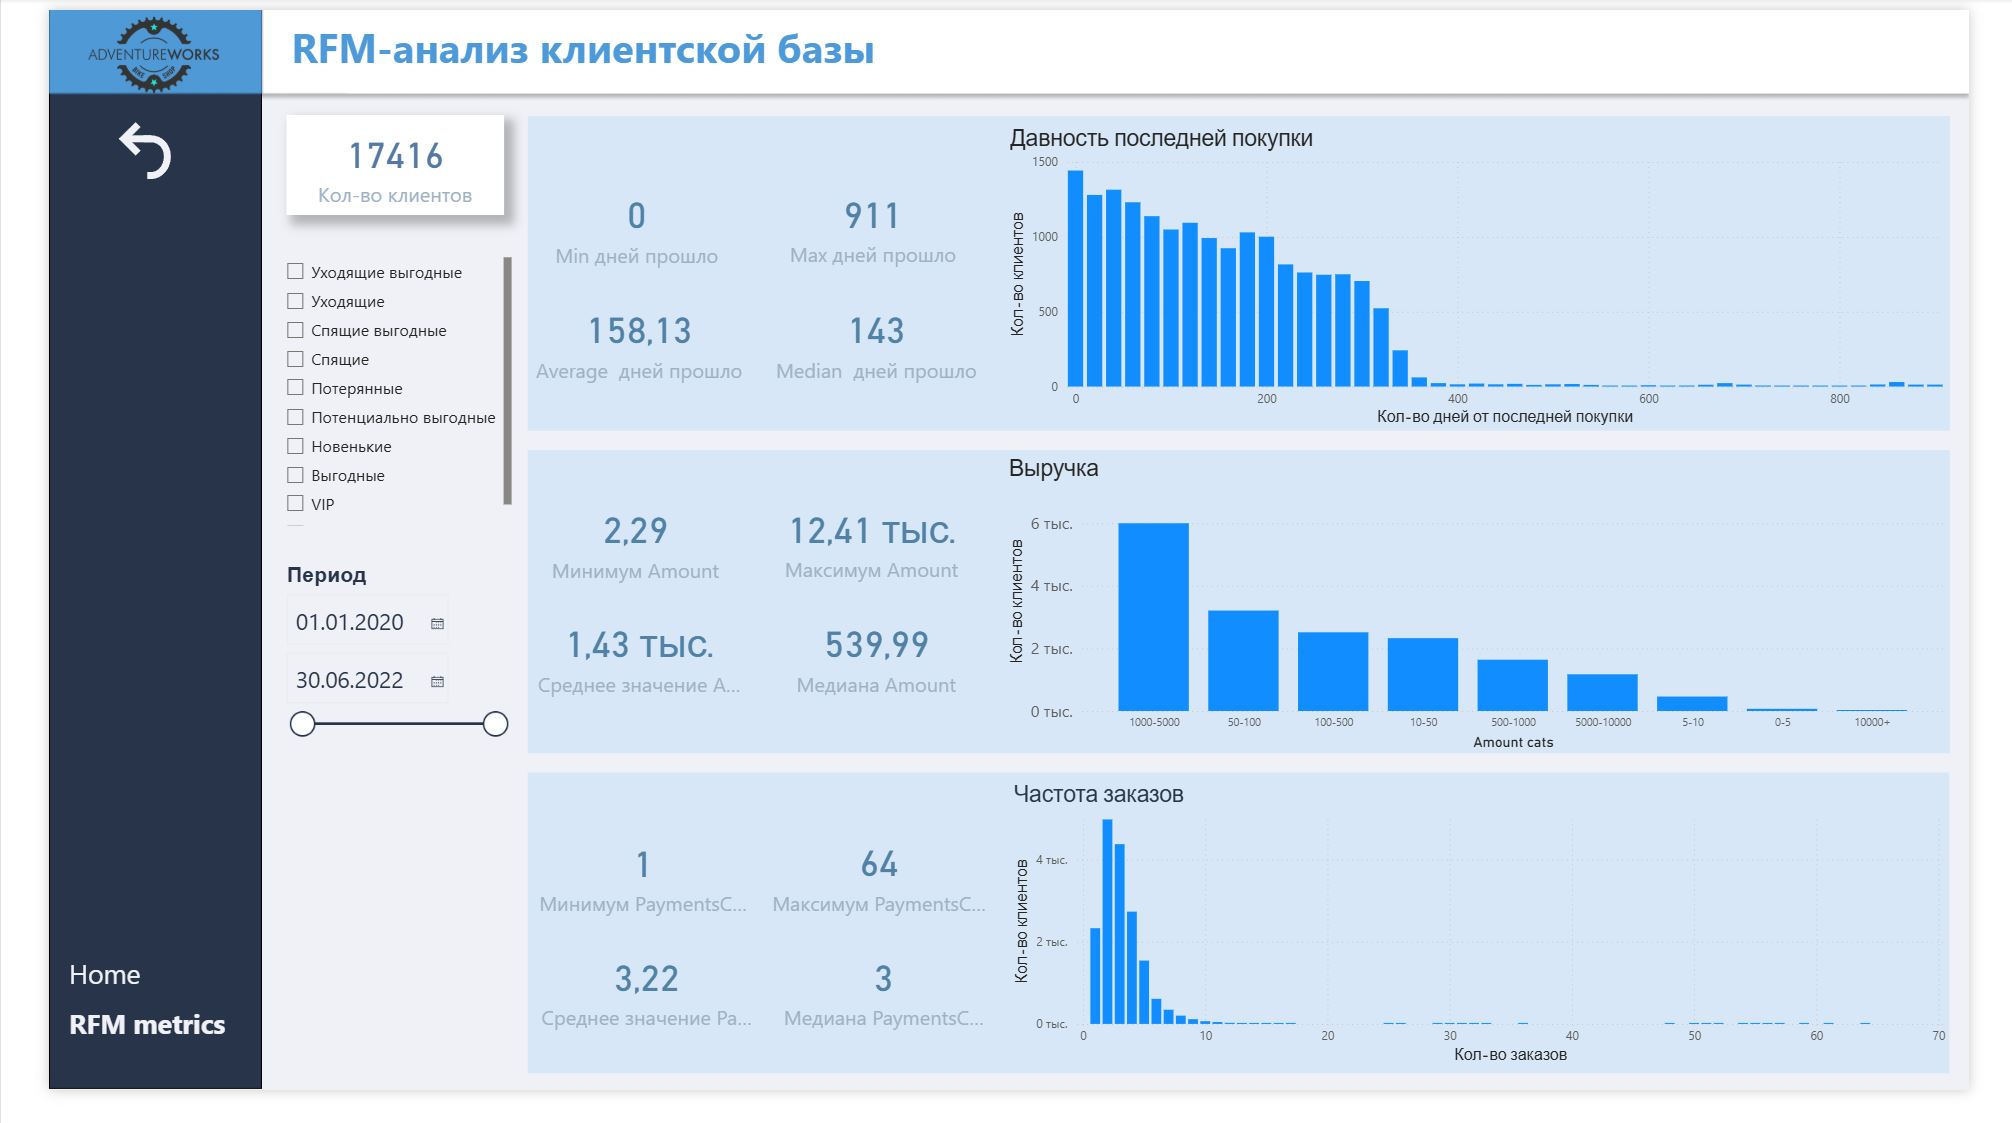

Layout of this report page (visuals, bound fields, positions):
{"tool":"powerbi","page":{"name":"RFM metrics","canvas":[1920,1080],"ordinal":1},"visuals":[{"type":"shape","box":[478.9,106.7,1422.2,314.4],"z":0},{"type":"slicer","fields":{"Values":["RFM cats.Определение группы"]},"box":[225.6,242.2,242.2,277.8],"z":1000},{"type":"textbox","title":"RFM-анализ клиентской базы","box":[238,10,918,56],"z":2000},{"type":"image","title":"Company Logo","box":[16.7,0,178.3,90],"z":3000},{"type":"actionButton","box":[62,106,88,68],"z":4000},{"type":"card","fields":{"Values":["Min(CustomerOrderingParams.DaysPassed)"]},"box":[475.7,166.5,223.3,98.9],"z":5000},{"type":"shape","box":[479.2,763.1,1421.5,300.8],"z":5500},{"type":"card","fields":{"Values":["Max(CustomerOrderingParams.DaysPassed)"]},"box":[711.3,166.5,225.6,97.8],"z":6000},{"type":"card","fields":{"Values":["Median(CustomerOrderingParams.DaysPassed)"]},"box":[717.9,282.1,220,96.7],"z":7000},{"type":"shape","box":[478.9,440,1422.2,303.3],"z":8000},{"type":"columnChart","title":"Выручка","fields":{"Y":["_Measures.Кол-во клиентов"],"Category":["CustomerOrderingParams.Amount cats"]},"box":[955.6,445.6,945.6,300],"z":9000},{"type":"columnChart","title":"Частота заказов","fields":{"Category":["CustomerOrderingParams.PaymentsCount"],"Y":["_Measures.Кол-во клиентов"]},"box":[960,771.1,942.2,286.7],"z":10000},{"type":"card","fields":{"Values":["_Measures.Кол-во клиентов"]},"box":[237.8,105.6,217.8,100],"z":11000},{"type":"card","fields":{"Values":["Min(CustomerOrderingParams.Amount)"]},"box":[475,481,223.3,98.9],"z":12000},{"type":"card","fields":{"Values":["Max(CustomerOrderingParams.Amount)"]},"box":[710.6,481,225.6,97.8],"z":13000},{"type":"card","fields":{"Values":["Median(CustomerOrderingParams.Amount)"]},"box":[717.2,596.6,220,96.7],"z":14000},{"type":"card","fields":{"Values":["Avg(CustomerOrderingParams.Amount)"]},"box":[478.3,596.6,223.3,96.7],"z":15000},{"type":"columnChart","title":"Давность последней покупки","fields":{"Y":["_Measures.Кол-во клиентов"],"Category":["CustomerOrderingParams.DaysPassed (bins)"]},"box":[956.7,115.6,945.6,305.6],"z":16000},{"type":"card","fields":{"Values":["Avg(CustomerOrderingParams.DaysPassed)"]},"box":[479,282.1,223.3,96.7],"z":17000},{"type":"slicer","fields":{"Values":["Calendar.Date"]},"box":[225,547.5,242.5,195],"z":18000},{"type":"pageNavigator","box":[20,942.2,178.9,90],"z":20000},{"type":"card","fields":{"Values":["Min(CustomerOrderingParams.PaymentsCount)"]},"box":[482.5,814.9,223.3,98.9],"z":21000},{"type":"card","fields":{"Values":["Max(CustomerOrderingParams.PaymentsCount)"]},"box":[718.1,814.9,225.6,97.8],"z":22000},{"type":"card","fields":{"Values":["Median(CustomerOrderingParams.PaymentsCount)"]},"box":[724.7,930.4,220,96.7],"z":23000},{"type":"card","fields":{"Values":["Avg(CustomerOrderingParams.PaymentsCount)"]},"box":[485.8,930.4,223.3,96.7],"z":24000}]}

Visuals, with their boxes in screenshot pixels (x1, y1, x2, y2), scaled from the page's 1920x1080 canvas onto the 2012x1123 screenshot:
shape: {"x1": 502, "y1": 111, "x2": 1992, "y2": 438}
slicer - RFM cats.Определение группы: {"x1": 236, "y1": 252, "x2": 490, "y2": 541}
"RFM-анализ клиентской базы" textbox: {"x1": 249, "y1": 10, "x2": 1211, "y2": 69}
"Company Logo" image: {"x1": 18, "y1": 0, "x2": 204, "y2": 94}
actionButton: {"x1": 65, "y1": 110, "x2": 157, "y2": 181}
card - Min(CustomerOrderingParams.DaysPassed): {"x1": 498, "y1": 173, "x2": 732, "y2": 276}
shape: {"x1": 502, "y1": 793, "x2": 1992, "y2": 1106}
card - Max(CustomerOrderingParams.DaysPassed): {"x1": 745, "y1": 173, "x2": 982, "y2": 275}
card - Median(CustomerOrderingParams.DaysPassed): {"x1": 752, "y1": 293, "x2": 983, "y2": 394}
shape: {"x1": 502, "y1": 458, "x2": 1992, "y2": 773}
"Выручка" columnChart: {"x1": 1001, "y1": 463, "x2": 1992, "y2": 775}
"Частота заказов" columnChart: {"x1": 1006, "y1": 802, "x2": 1993, "y2": 1100}
card - _Measures.Кол-во клиентов: {"x1": 249, "y1": 110, "x2": 477, "y2": 214}
card - Min(CustomerOrderingParams.Amount): {"x1": 498, "y1": 500, "x2": 732, "y2": 603}
card - Max(CustomerOrderingParams.Amount): {"x1": 745, "y1": 500, "x2": 981, "y2": 602}
card - Median(CustomerOrderingParams.Amount): {"x1": 752, "y1": 620, "x2": 982, "y2": 721}
card - Avg(CustomerOrderingParams.Amount): {"x1": 501, "y1": 620, "x2": 735, "y2": 721}
"Давность последней покупки" columnChart: {"x1": 1003, "y1": 120, "x2": 1993, "y2": 438}
card - Avg(CustomerOrderingParams.DaysPassed): {"x1": 502, "y1": 293, "x2": 736, "y2": 394}
slicer - Calendar.Date: {"x1": 236, "y1": 569, "x2": 490, "y2": 772}
pageNavigator: {"x1": 21, "y1": 980, "x2": 208, "y2": 1073}
card - Min(CustomerOrderingParams.PaymentsCount): {"x1": 506, "y1": 847, "x2": 740, "y2": 950}
card - Max(CustomerOrderingParams.PaymentsCount): {"x1": 753, "y1": 847, "x2": 989, "y2": 949}
card - Median(CustomerOrderingParams.PaymentsCount): {"x1": 759, "y1": 967, "x2": 990, "y2": 1068}
card - Avg(CustomerOrderingParams.PaymentsCount): {"x1": 509, "y1": 967, "x2": 743, "y2": 1068}
